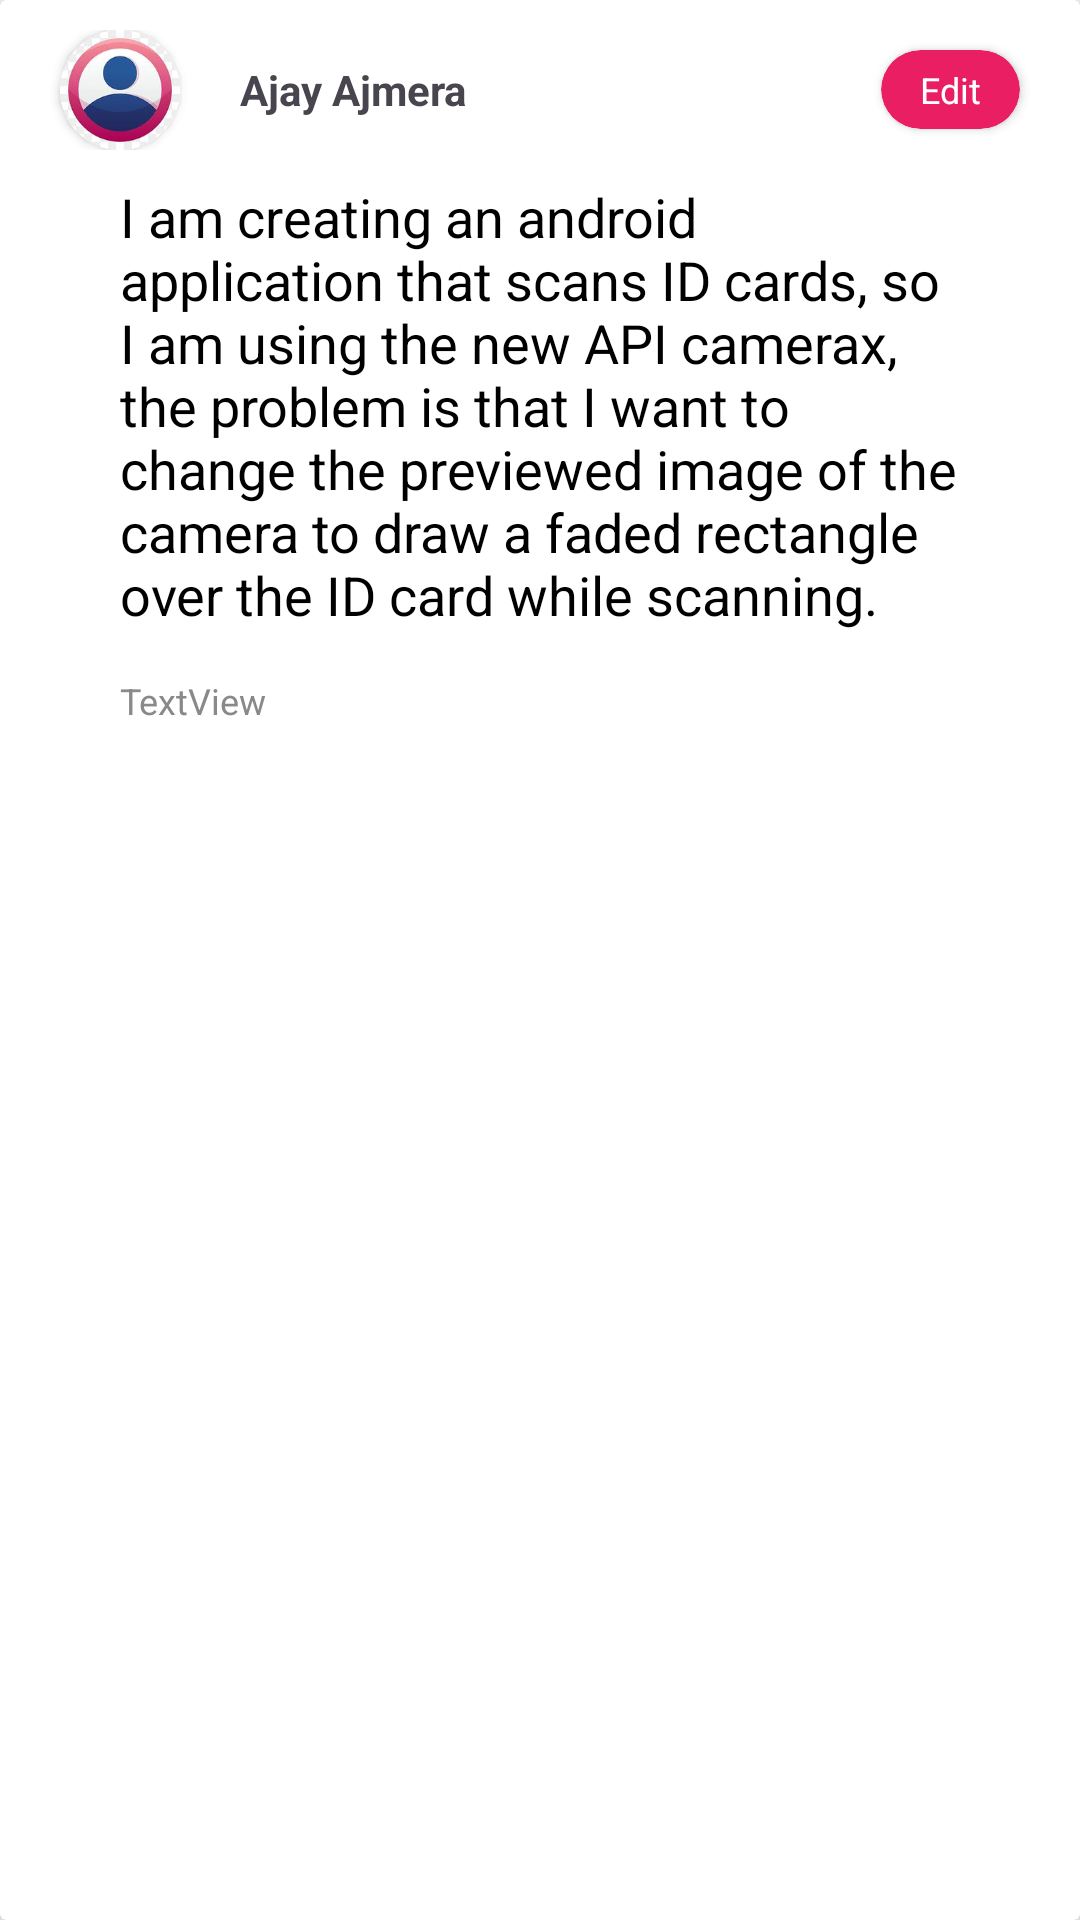

Icon click points for this 1080 x 1920 phone screenshot, format (x=x, y=y):
profile photo: (x=120, y=90)
